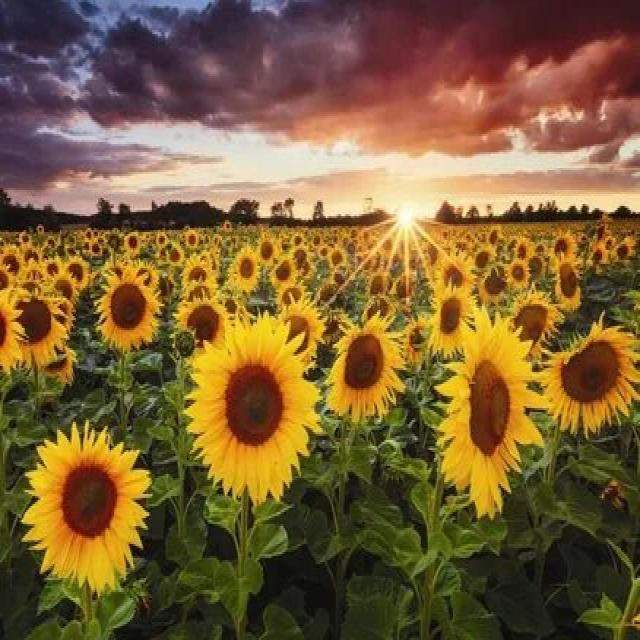sunflower: (181, 308, 326, 510), (434, 304, 541, 528), (19, 414, 152, 594), (542, 312, 639, 450), (323, 308, 409, 434), (92, 268, 165, 364), (429, 246, 476, 298), (554, 250, 583, 312), (225, 246, 262, 294), (178, 248, 214, 294), (266, 250, 299, 290), (504, 254, 529, 292), (324, 238, 350, 270), (123, 228, 143, 254)
